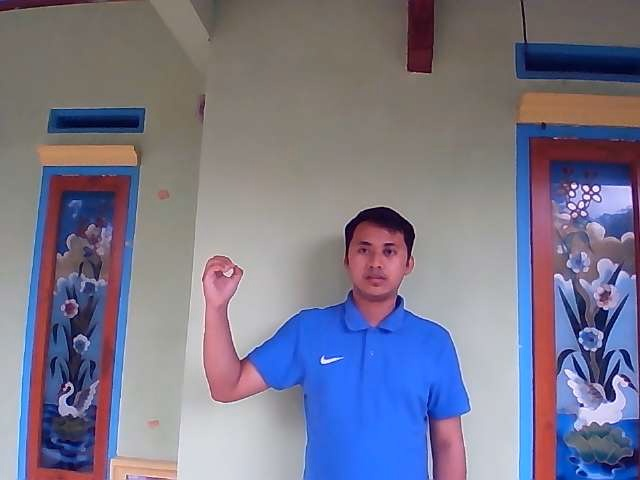O: (200, 253, 245, 310)
